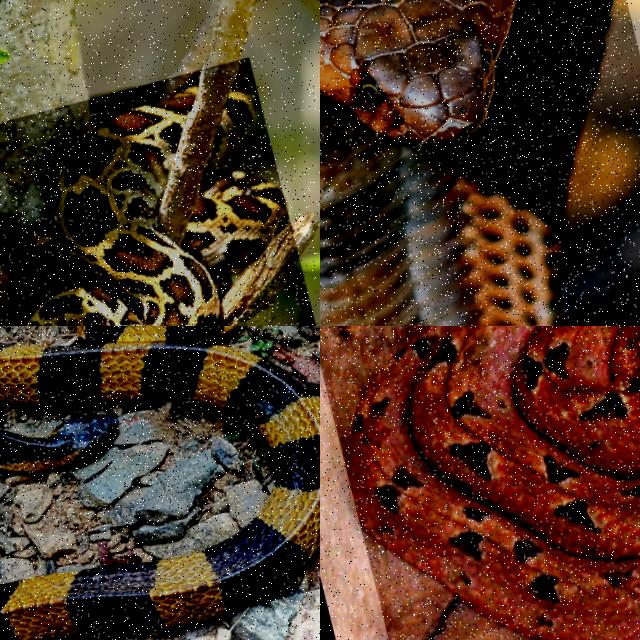Bungarus fasciatus: (0, 326, 319, 639)
Calloselasma rhodostoma: (351, 326, 639, 639)
Ophiophagus hannah: (320, 0, 611, 325)
Python bivittatus: (0, 88, 287, 325)
snake: (0, 326, 319, 639), (320, 0, 611, 325), (351, 326, 639, 639), (0, 88, 287, 325)
